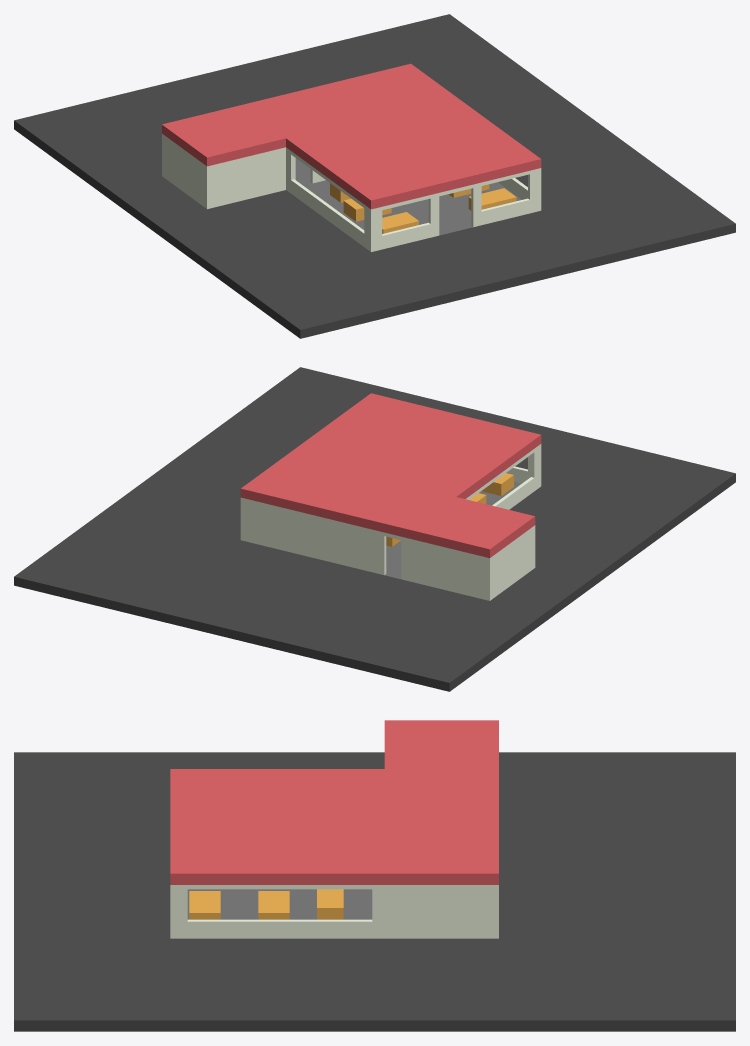
Rendered from restaurant_furnishing.glb.
3 views of the same model, one above another, from view 1: azimuth 30°, elevation 25°; view 2: azimuth 150°, elevation 25°; view 3: azimuth 270°, elevation 25° (orthographic). The views are drawn at different scales.
Visible parts, largest first — view 1: ground, roof, front_wall, manager_front, floor, left_wall, managaer_side, table2, table; view 2: ground, roof, back_wall, manager_back, managaer_side, left_wall, floor; view 3: ground, roof, right_wall, floor, table2, table, order_counter.
Boxes of the visible parts, box(x1,y1,x2,y2) form: ground: box(14, 14, 735, 338); roof: box(162, 63, 541, 209); front_wall: box(369, 168, 541, 251); manager_front: box(205, 147, 285, 209); floor: box(295, 158, 521, 235); left_wall: box(286, 147, 368, 250); managaer_side: box(163, 135, 205, 207); table2: box(382, 188, 516, 233); table: box(343, 184, 489, 221); ground: box(14, 367, 735, 691); roof: box(240, 393, 541, 558); back_wall: box(240, 497, 410, 581); manager_back: box(411, 539, 491, 600); managaer_side: box(492, 527, 533, 598); left_wall: box(465, 445, 539, 509); floor: box(385, 481, 521, 579); ground: box(14, 752, 735, 1031); roof: box(170, 720, 498, 884); right_wall: box(175, 885, 493, 938); floor: box(187, 889, 372, 919); table2: box(189, 891, 220, 919); table: box(258, 891, 289, 919); order_counter: box(317, 889, 343, 919).
Bounding box in the file's own units: 25.59 × 3.4 × 29.14.
